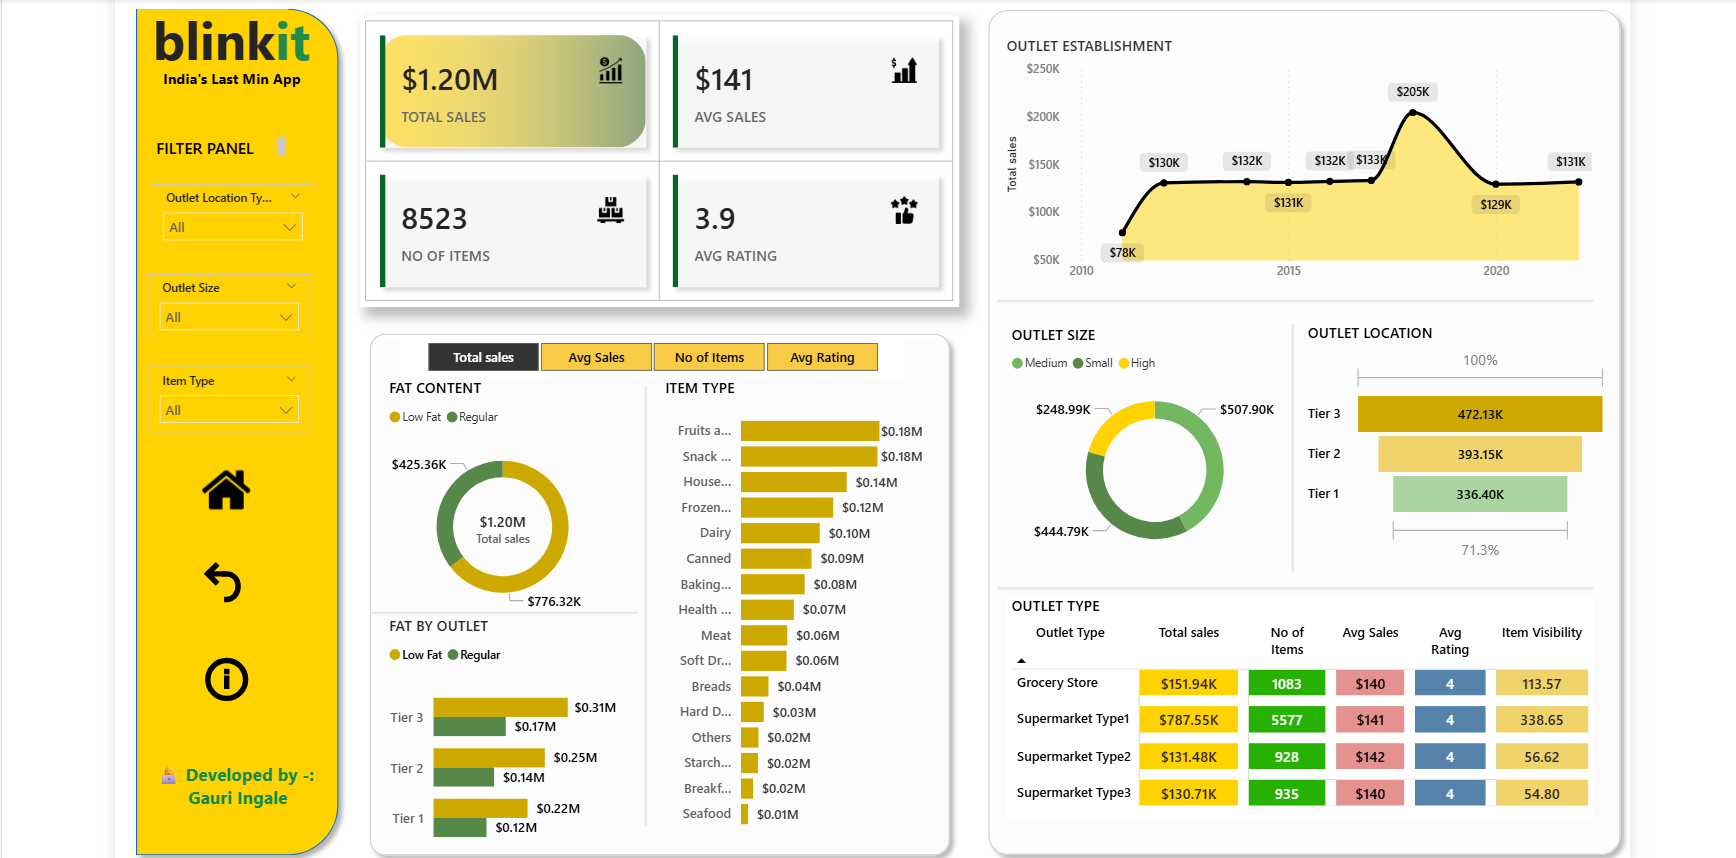

Layout of this report page (visuals, bound fields, positions):
{"tool":"powerbi","page":{"name":"Page 1","canvas":[1400,800],"ordinal":0},"visuals":[{"type":"shape","box":[10.1,0,205.1,800],"z":0},{"type":"textbox","box":[262.7,0,610.9,108.1],"z":1000},{"type":"textbox","box":[30,0,165.1,82.5],"z":2000},{"type":"textbox","box":[22.5,42,172.6,54],"z":3000},{"type":"cardVisual","fields":{"Data":["BlinkIT Grocery Data.Total sales","BlinkIT Grocery Data.Avg Sales","BlinkIT Grocery Data.No of Items","BlinkIT Grocery Data.Avg Rating"]},"box":[226.4,15.3,553.2,269.6],"z":4000},{"type":"shape","box":[226.6,300.2,553.8,499.8],"z":5000},{"type":"donutChart","title":"FAT CONTENT","fields":{"Y":["BlinkIT Grocery Data.Total sales"],"Category":["BlinkIT Grocery Data.Item Fat Content"]},"box":[248,349.7,220,230.2],"z":6000},{"type":"slicer","fields":{"Values":["Metrics.Metrics"]},"box":[263.3,310.3,465.5,39.4],"z":7000},{"type":"cardVisual","fields":{"Data":["BlinkIT Grocery Data.Total sales"]},"box":[315.4,452.8,86.5,72.5],"z":8000},{"type":"clusteredBarChart","title":"FAT BY OUTLET","fields":{"Y":["BlinkIT Grocery Data.Total sales"],"Category":["BlinkIT Grocery Data.Outlet Location Type"],"Series":["BlinkIT Grocery Data.Item Fat Content"]},"box":[248,569.8,220,230.2],"z":9000},{"type":"shape","box":[235.3,554.5,248,25.4],"z":10000},{"type":"shape","box":[483.3,357.4,12.7,407],"z":11000},{"type":"barChart","title":"ITEM TYPE","fields":{"Y":["BlinkIT Grocery Data.Total sales"],"Category":["BlinkIT Grocery Data.Item Type"]},"box":[503.6,349.7,248,427.3],"z":12000},{"type":"shape","box":[798.5,1.5,601.8,798.5],"z":13000},{"type":"lineChart","title":"OUTLET ESTABLISHMENT","fields":{"Y":["BlinkIT Grocery Data.Total sales"],"Category":["BlinkIT Grocery Data.Outlet Establishment Year"]},"box":[819,33.1,550.7,235.3],"z":14000},{"type":"shape","box":[815.2,272.2,550.7,12.7],"z":15000},{"type":"donutChart","title":"OUTLET SIZE","fields":{"Y":["BlinkIT Grocery Data.Total sales"],"Category":["BlinkIT Grocery Data.Outlet Size"]},"box":[822.9,300.1,274.7,225.1],"z":16000},{"type":"funnel","title":"OUTLET LOCATION","fields":{"Y":["Sum(BlinkIT Grocery Data.Sales)"],"Category":["BlinkIT Grocery Data.Outlet Location Type"]},"box":[1097.5,298.7,287.3,225.3],"z":17000},{"type":"shape","box":[1081,300.1,14,228.9],"z":18000},{"type":"shape","box":[815.2,538,550.7,12.7],"z":19000},{"type":"pivotTable","title":"OUTLET TYPE","fields":{"Values":["BlinkIT Grocery Data.Total sales","BlinkIT Grocery Data.No of Items","BlinkIT Grocery Data.Avg Sales","BlinkIT Grocery Data.Avg Rating","Sum(BlinkIT Grocery Data.Item Visibility)"],"Rows":["BlinkIT Grocery Data.Outlet Type"]},"box":[822.9,550.7,543.1,206],"z":20000},{"type":"slicer","fields":{"Values":["BlinkIT Grocery Data.Outlet Location Type"]},"box":[32.9,170.9,150.6,60.8],"z":21000},{"type":"slicer","fields":{"Values":["BlinkIT Grocery Data.Outlet Size"]},"box":[30.4,254.4,150.6,60.8],"z":22000},{"type":"slicer","fields":{"Values":["BlinkIT Grocery Data.Item Type"]},"box":[30.4,339.2,150.6,60.8],"z":23000},{"type":"actionButton","box":[75.9,515.2,58.2,46.8],"z":25000},{"type":"actionButton","box":[75.9,426.6,53.2,54.4],"z":26000},{"type":"actionButton","box":[78.5,603.8,68.4,49.4],"z":27000},{"type":"textbox","box":[22.8,700,172.2,64.6],"z":27001},{"type":"textbox","box":[32.9,122.8,129.1,27.8],"z":27002}]}

Visuals, with their boxes on the page's 1400x800 design canvas (x1, y1, x2, y2). These are canvas units, not pixel positions in the 1736x858 screenshot, which may show the page scaled, cropped or inside an application window:
shape: detection(10, 0, 215, 800)
textbox: detection(263, 0, 874, 108)
textbox: detection(30, 0, 195, 82)
textbox: detection(22, 42, 195, 96)
cardVisual - BlinkIT Grocery Data.Total sales x BlinkIT Grocery Data.Avg Sales: detection(226, 15, 780, 285)
shape: detection(227, 300, 780, 800)
"FAT CONTENT" donutChart: detection(248, 350, 468, 580)
slicer - Metrics.Metrics: detection(263, 310, 729, 350)
cardVisual - BlinkIT Grocery Data.Total sales: detection(315, 453, 402, 525)
"FAT BY OUTLET" clusteredBarChart: detection(248, 570, 468, 800)
shape: detection(235, 554, 483, 580)
shape: detection(483, 357, 496, 764)
"ITEM TYPE" barChart: detection(504, 350, 752, 777)
shape: detection(798, 2, 1400, 800)
"OUTLET ESTABLISHMENT" lineChart: detection(819, 33, 1370, 268)
shape: detection(815, 272, 1366, 285)
"OUTLET SIZE" donutChart: detection(823, 300, 1098, 525)
"OUTLET LOCATION" funnel: detection(1098, 299, 1385, 524)
shape: detection(1081, 300, 1095, 529)
shape: detection(815, 538, 1366, 551)
"OUTLET TYPE" pivotTable: detection(823, 551, 1366, 757)
slicer - BlinkIT Grocery Data.Outlet Location Type: detection(33, 171, 184, 232)
slicer - BlinkIT Grocery Data.Outlet Size: detection(30, 254, 181, 315)
slicer - BlinkIT Grocery Data.Item Type: detection(30, 339, 181, 400)
actionButton: detection(76, 515, 134, 562)
actionButton: detection(76, 427, 129, 481)
actionButton: detection(78, 604, 147, 653)
textbox: detection(23, 700, 195, 765)
textbox: detection(33, 123, 162, 151)
